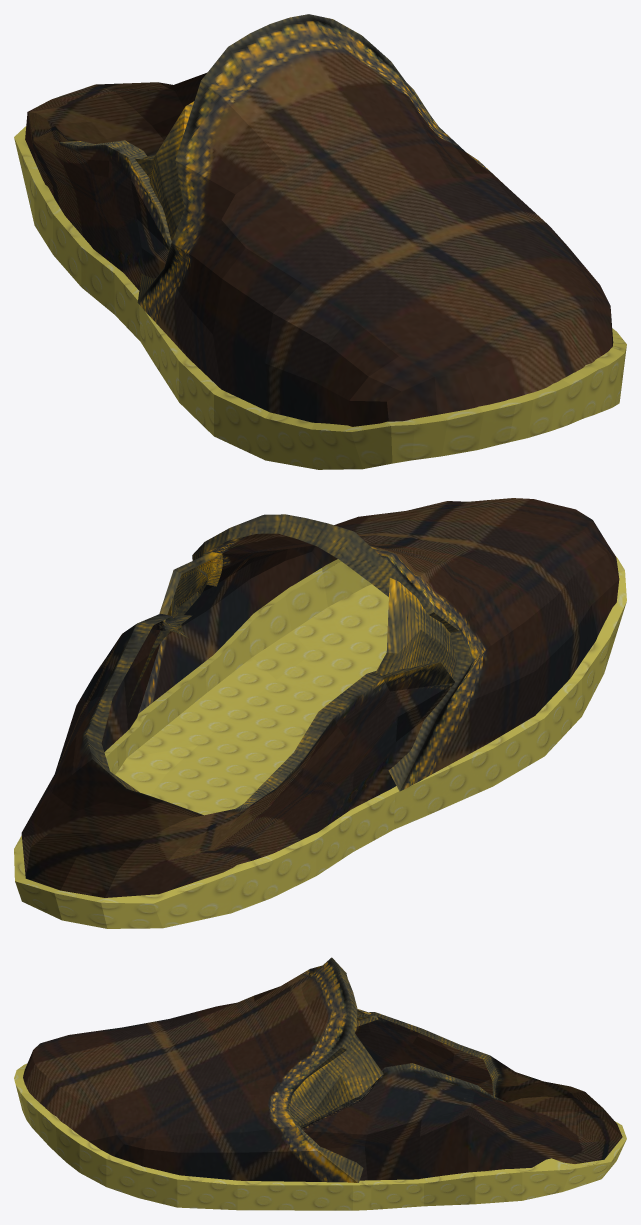
Rendered from zapatilla.fbx.
The picture shows the model from 3 angles, top to bottom: view 1: azimuth 30°, elevation 25°; view 2: azimuth 150°, elevation 25°; view 3: azimuth 270°, elevation 25°; orthographic projection. The views are drawn at different scales.
Parts seen in each view (by area): view 1: zapatilla; view 2: zapatilla; view 3: zapatilla.
Boxes of the visible parts, left/top/right/bottom form: zapatilla: left=14, top=14, right=626, bottom=469; zapatilla: left=14, top=498, right=626, bottom=928; zapatilla: left=14, top=957, right=626, bottom=1210.
Size of the model in its own units: 11.1 by 9.14 by 26.6.
